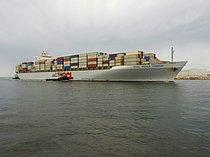Ship: (13, 46, 193, 85)
